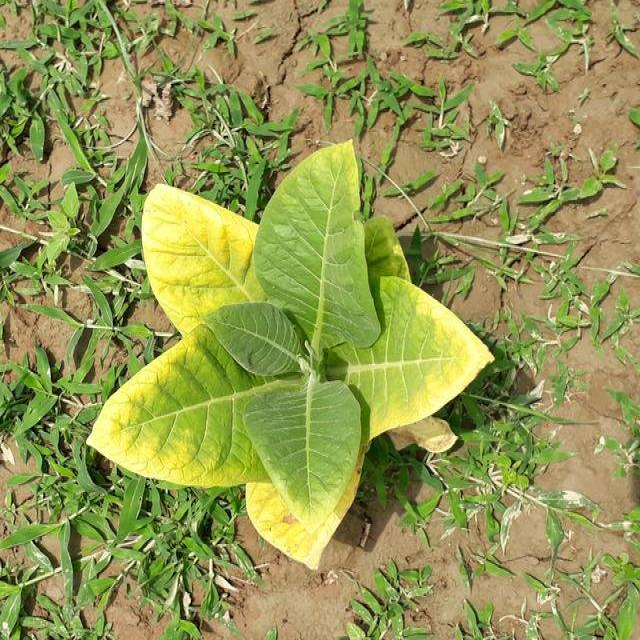crop: (92, 150, 497, 561)
